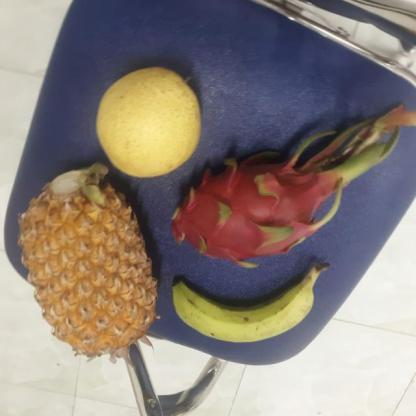banana: (166, 259, 320, 339)
guava: (88, 68, 203, 178)
pineapple: (16, 167, 157, 356)
pitaya: (158, 162, 330, 264)
